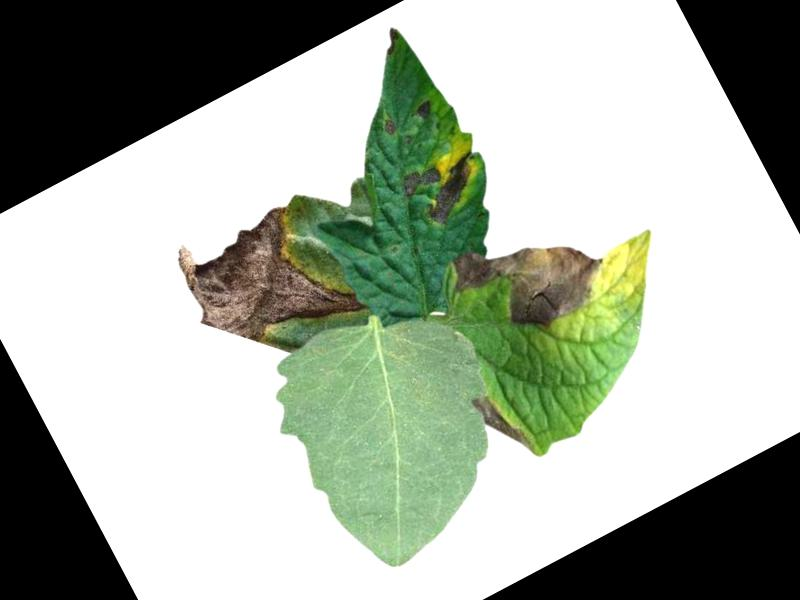Early_blight: (165, 182, 369, 381), (440, 195, 619, 360), (398, 142, 495, 233), (471, 384, 528, 457), (377, 24, 407, 55), (413, 96, 440, 123), (383, 119, 398, 135)
healthy: (247, 270, 552, 587)
